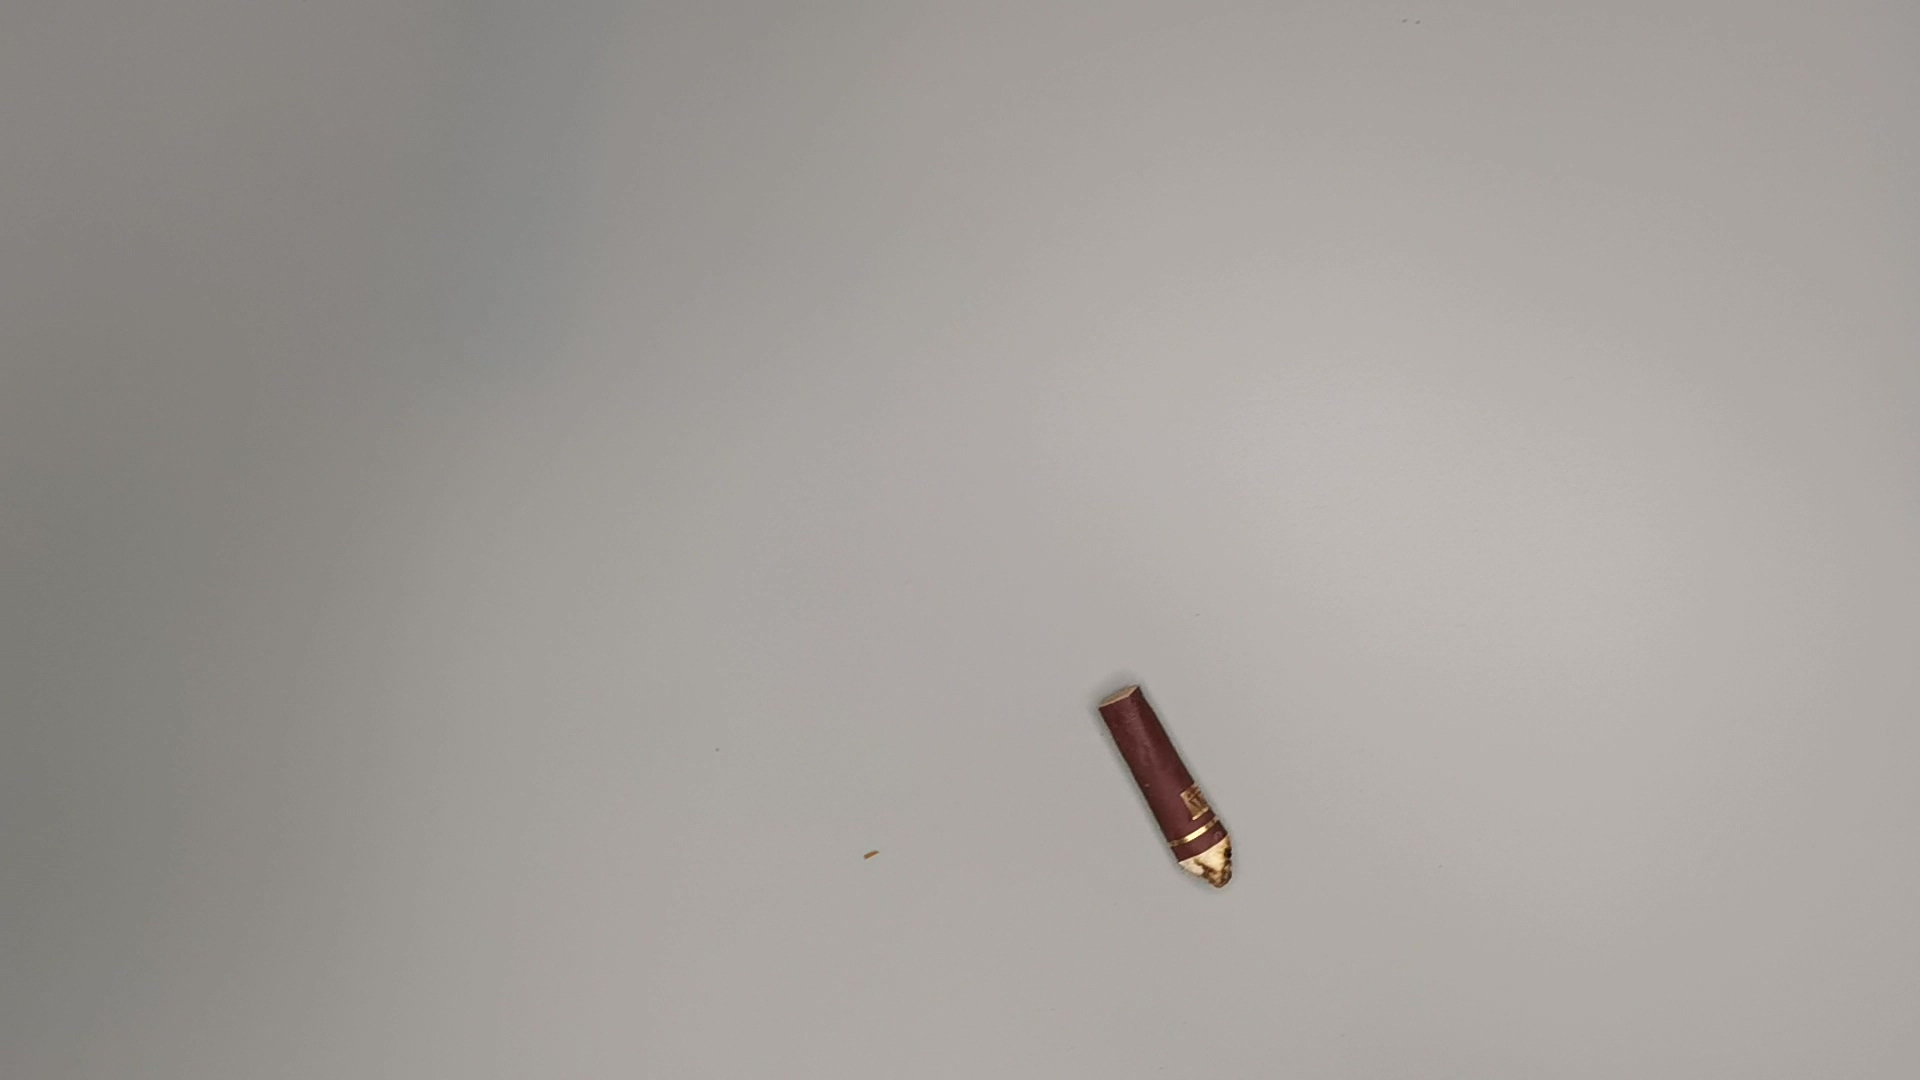cigarette: (1095, 686, 1241, 901)
